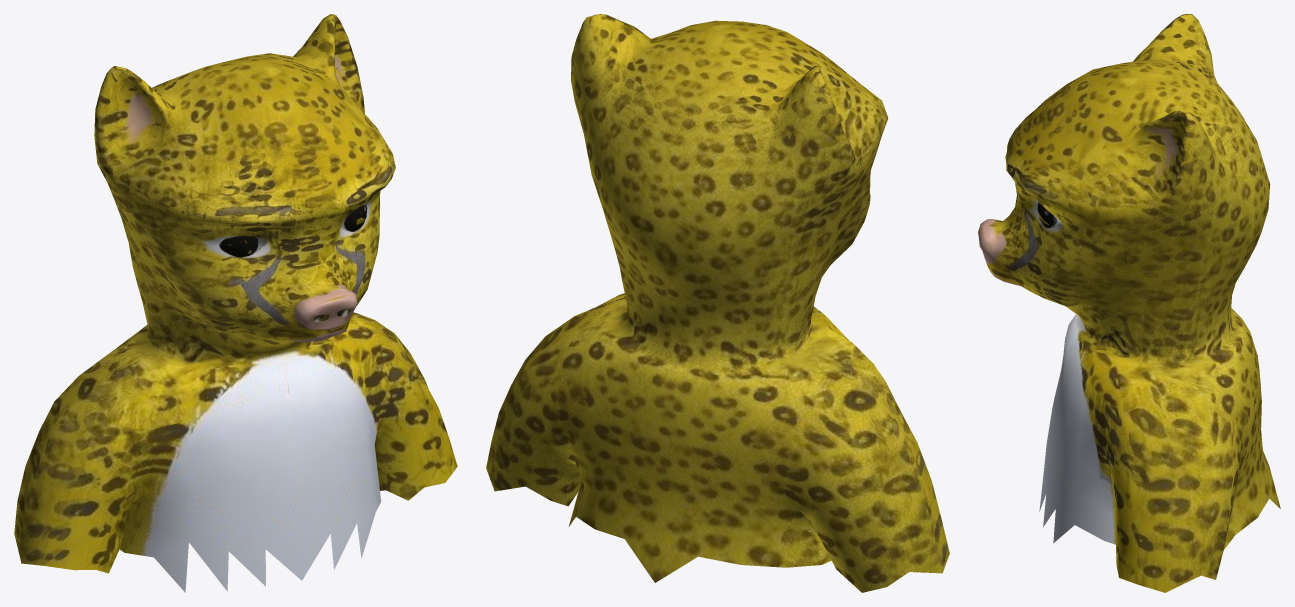
The model's file is baola.glb.
The picture shows the model from 3 angles, left to right: view 1: azimuth 30°, elevation 25°; view 2: azimuth 150°, elevation 25°; view 3: azimuth 270°, elevation 25°; orthographic projection. The views are drawn at different scales.
Parts seen in each view (by area): view 1: Head; view 2: Head; view 3: Head.
Boxes of the visible parts, bbox=[...] form: Head: bbox=[14, 14, 457, 592]; Head: bbox=[486, 14, 949, 592]; Head: bbox=[978, 14, 1280, 592].
Size of the model in its own units: 0.5469 by 0.5894 by 0.3574.
Materials: 1 (1 with a texture image).
